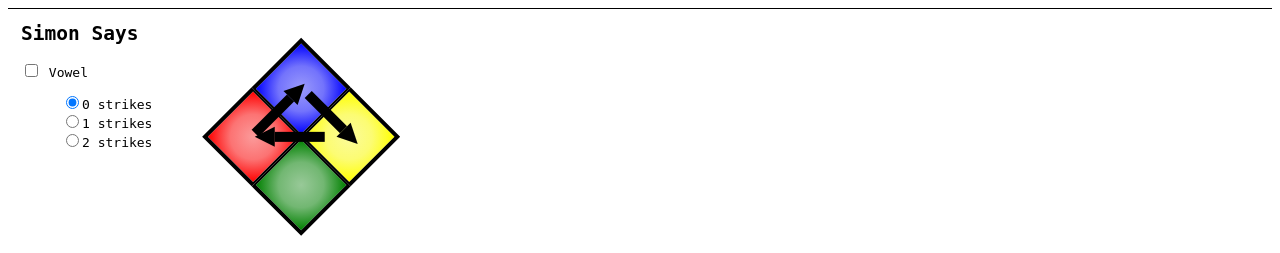
Test: SimonSaysModule › displays different arrows for 1 strike without vowel
Click the radio button labelled "1 strikes".
click(72, 122)  # box 66,115 -> 79,128
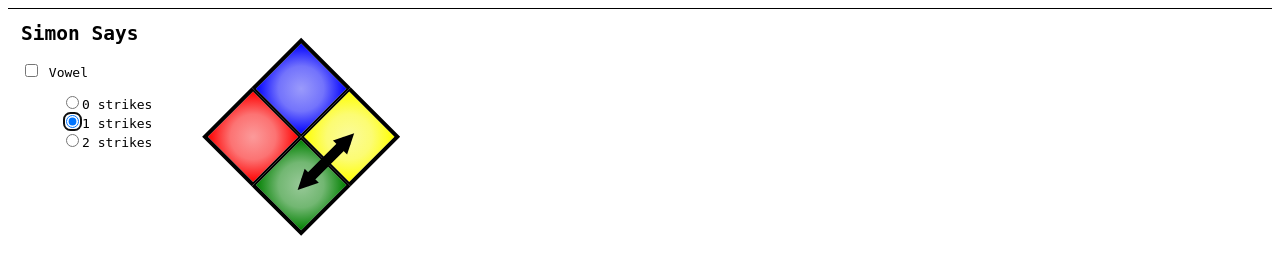
Expected: the element with id "arrowGY" is shown, 302,144 -> 344,186
Expected: the element with id "arrowYG" is shown, 309,137 -> 351,179
